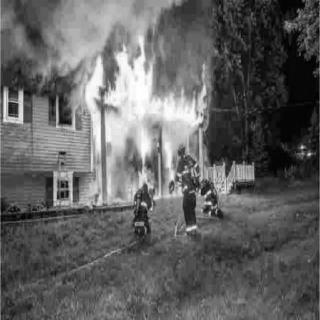Fire: (89, 46, 222, 207)
